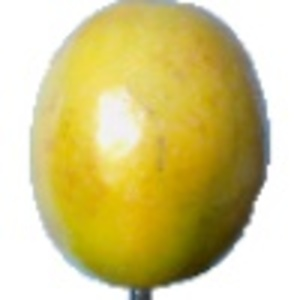maracujá: (29, 1, 273, 300)
